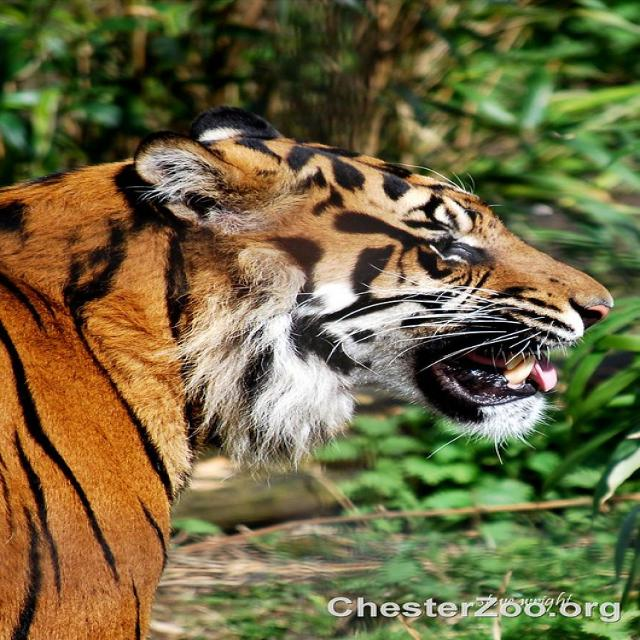Tiger: (5, 104, 613, 636)
